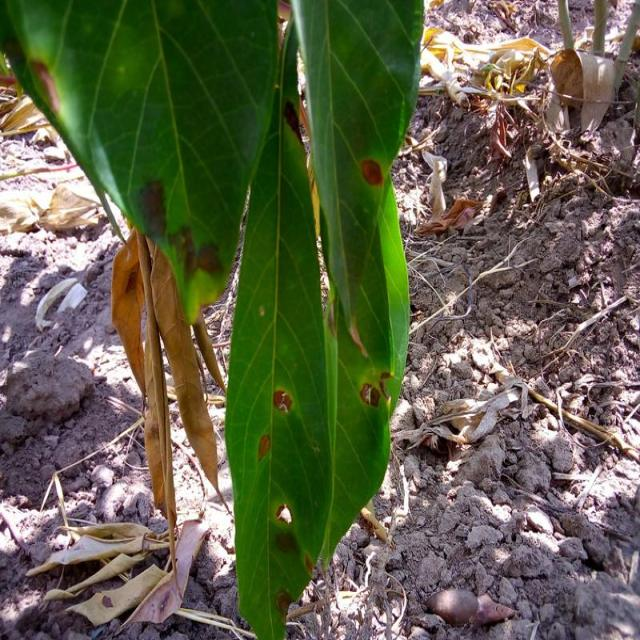cassava leaf: (1, 0, 427, 638), (2, 0, 279, 324), (288, 0, 426, 571), (223, 21, 335, 638)
